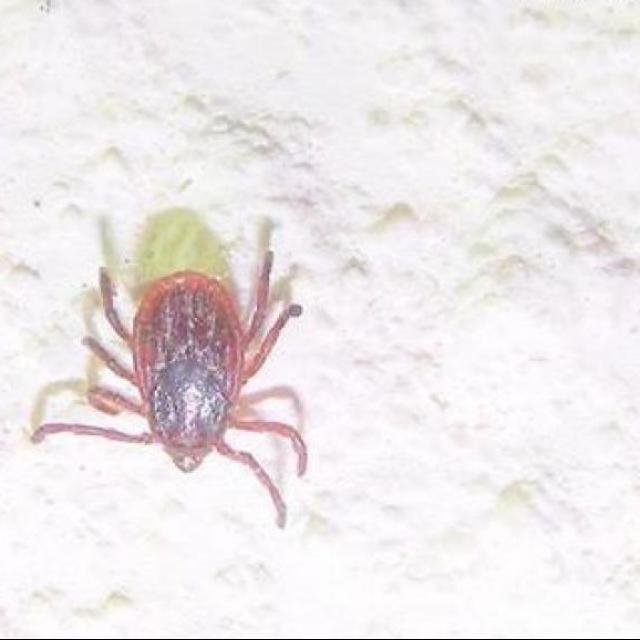Rhipicephalus Sanguineus-F: (29, 252, 307, 530)
